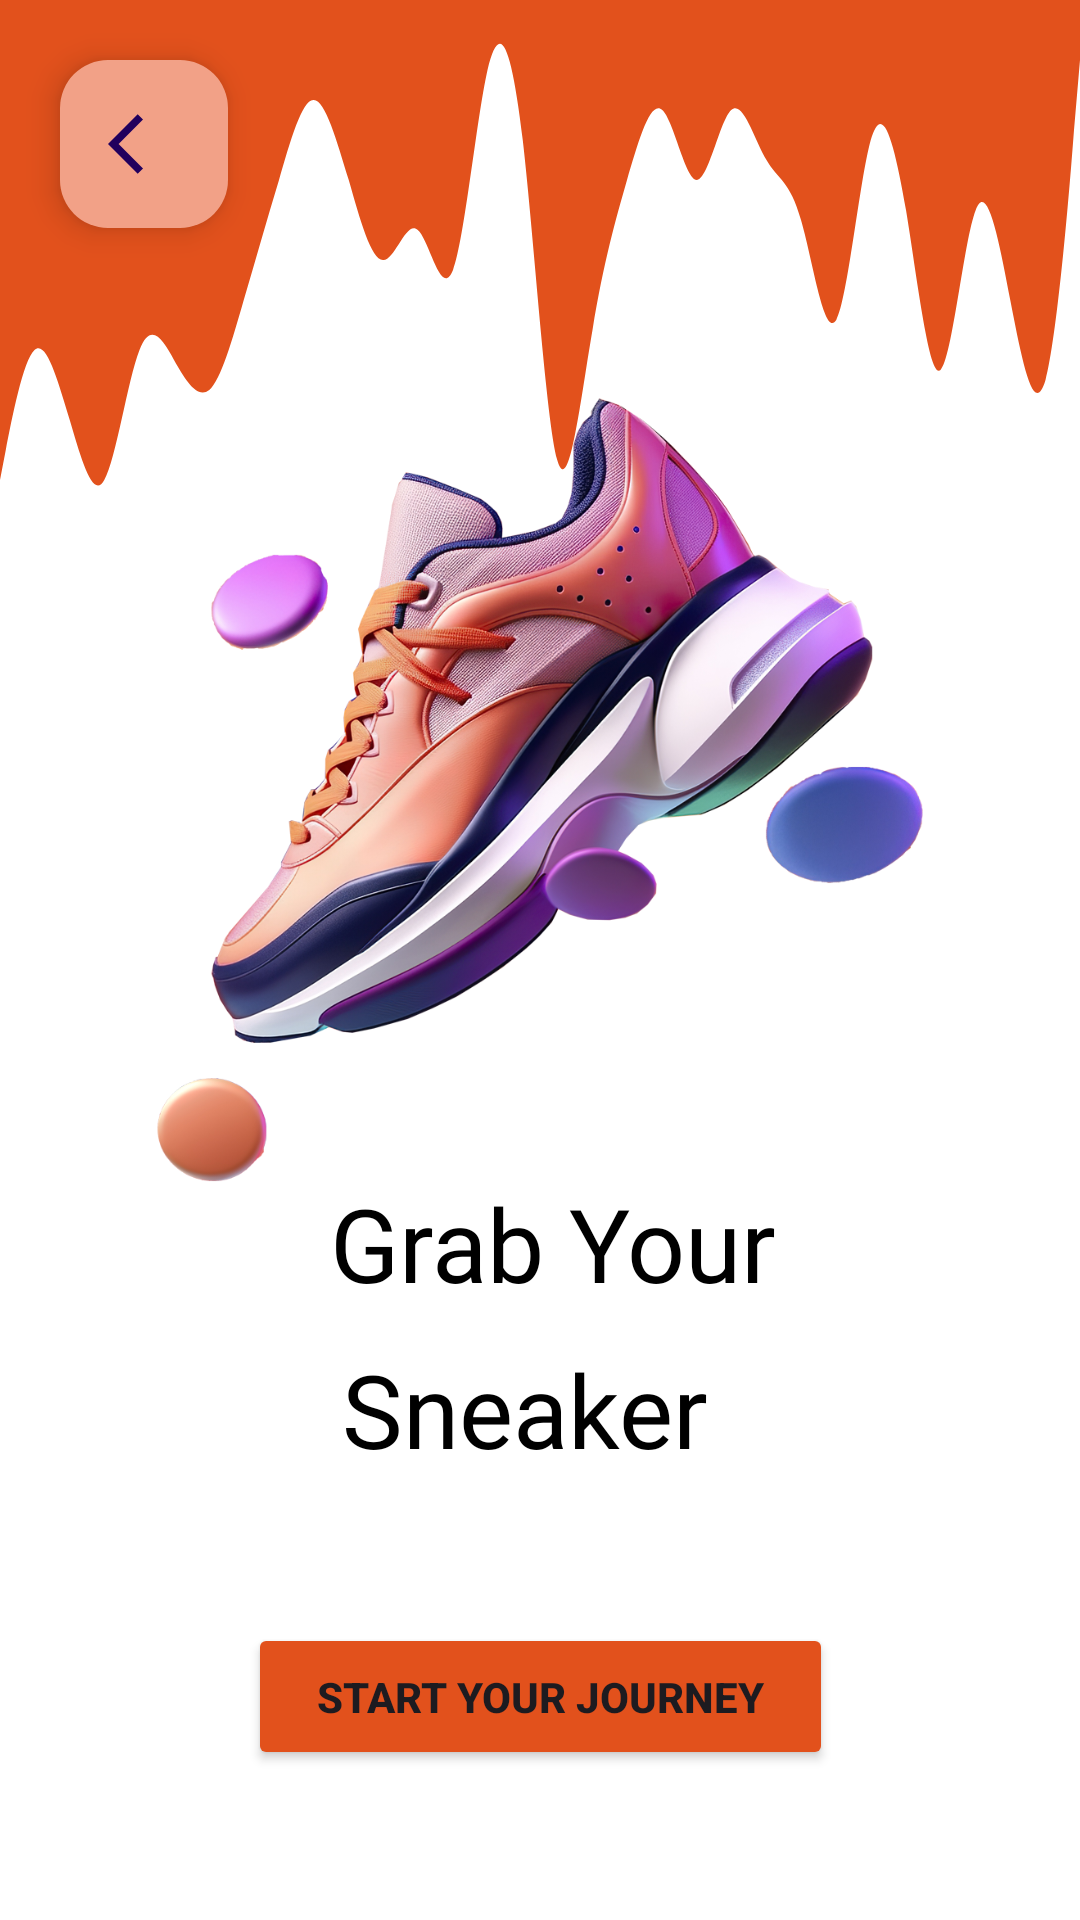

Icon click points for this 1080*1920 phone screenshot, format point (x, y):
arrow back: point (144, 144)
